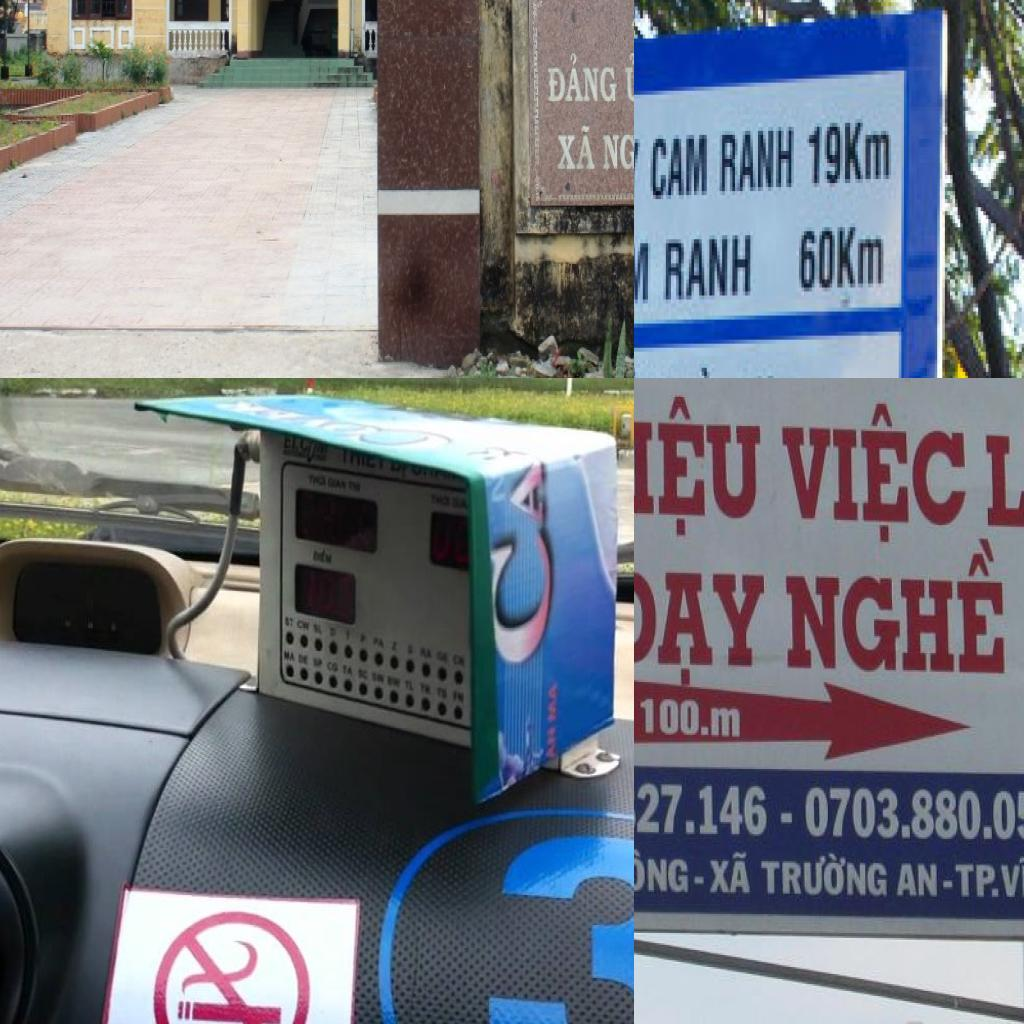text: (784, 539, 1006, 677), (480, 828, 634, 1024), (777, 395, 967, 544), (634, 390, 762, 540), (634, 564, 766, 688), (484, 461, 561, 665), (803, 784, 1024, 844), (661, 231, 755, 308), (759, 852, 891, 898), (717, 123, 796, 199), (982, 403, 1024, 533), (648, 127, 712, 207), (638, 694, 744, 742), (547, 52, 618, 106), (634, 849, 708, 897), (837, 223, 886, 292), (845, 119, 894, 187), (799, 223, 837, 296), (809, 119, 845, 191), (463, 444, 546, 474), (894, 864, 954, 900), (709, 851, 756, 895), (556, 124, 598, 172), (955, 864, 1001, 898), (634, 239, 655, 311), (601, 127, 634, 171), (1002, 857, 1024, 902), (282, 434, 310, 454), (546, 678, 558, 724), (624, 52, 634, 104), (545, 724, 558, 762), (341, 661, 355, 678), (296, 618, 312, 632), (283, 649, 297, 664), (330, 625, 338, 640), (344, 628, 352, 641), (325, 554, 333, 565)
